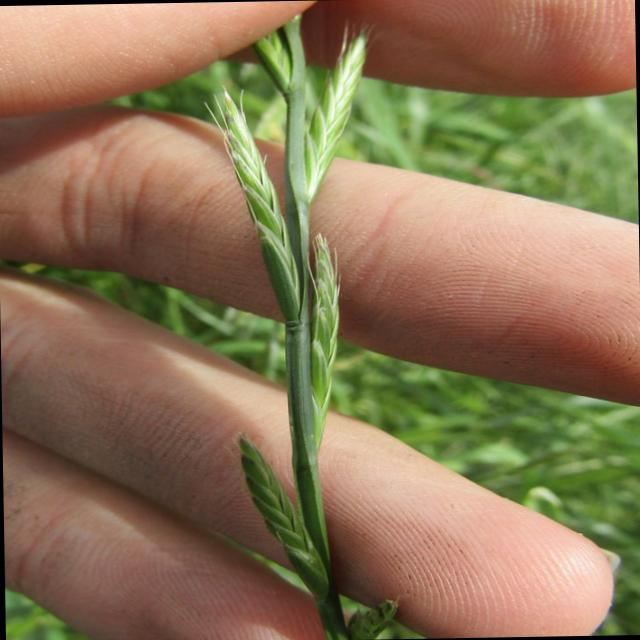Lolium: (198, 12, 391, 640)
